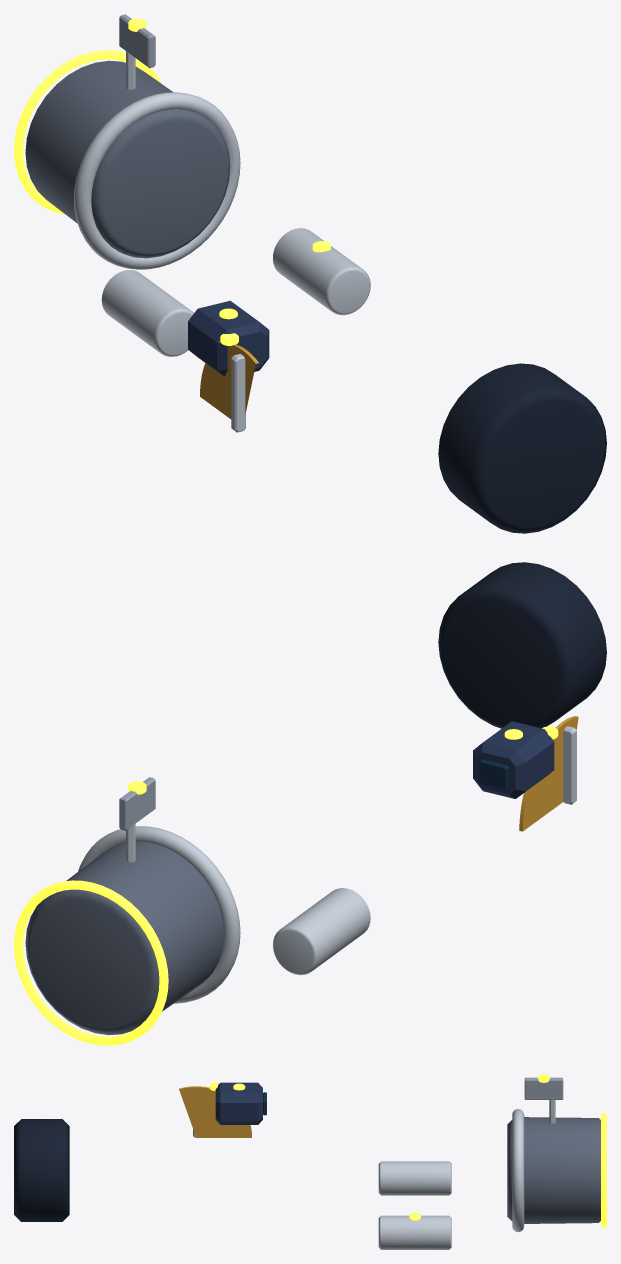
File: tower_nova_range_s6.glb
The picture shows the model from 3 angles, top to bottom: view 1: azimuth 30°, elevation 25°; view 2: azimuth 150°, elevation 25°; view 3: azimuth 270°, elevation 25°; orthographic projection. The views are drawn at different scales.
Visible parts, largest first — view 1: nova_tube_extension, nova_counterweight, nova_tube_collar, nova_recup_ext_l, nova_recup_ext_r, nova_cradle_optic, nova_tube_ext_glow, nova_quadrant_plate, nova_wind_vane, nova_quadrant_pointer; view 2: nova_tube_extension, nova_counterweight, nova_recup_ext_r, nova_tube_collar, nova_tube_ext_glow, nova_cradle_optic, nova_quadrant_plate, nova_wind_vane, nova_quadrant_pointer, nova_cradle_optic_lens; view 3: nova_tube_extension, nova_counterweight, nova_recup_ext_r, nova_recup_ext_l, nova_quadrant_plate, nova_cradle_optic, nova_tube_collar, nova_wind_vane, nova_tube_ext_glow.
Part boxes in pixels (<box>): nova_tube_extension: <box>25,60,230,258</box>; nova_counterweight: <box>438,363,606,533</box>; nova_tube_collar: <box>74,92,240,269</box>; nova_recup_ext_l: <box>273,228,370,315</box>; nova_recup_ext_r: <box>101,270,193,356</box>; nova_cradle_optic: <box>188,300,269,376</box>; nova_tube_ext_glow: <box>14,50,161,214</box>; nova_quadrant_plate: <box>200,344,258,419</box>; nova_wind_vane: <box>119,14,155,67</box>; nova_quadrant_pointer: <box>231,354,245,432</box>; nova_tube_extension: <box>25,841,223,1035</box>; nova_counterweight: <box>438,562,606,728</box>; nova_recup_ext_r: <box>272,888,370,975</box>; nova_tube_collar: <box>78,826,240,1003</box>; nova_tube_ext_glow: <box>14,880,168,1045</box>; nova_cradle_optic: <box>473,721,554,798</box>; nova_quadrant_plate: <box>519,716,578,831</box>; nova_wind_vane: <box>119,777,155,830</box>; nova_quadrant_pointer: <box>563,726,576,804</box>; nova_cradle_optic_lens: <box>479,759,508,789</box>; nova_tube_extension: <box>507,1117,600,1223</box>; nova_counterweight: <box>14,1119,69,1221</box>; nova_recup_ext_r: <box>378,1161,451,1195</box>; nova_recup_ext_l: <box>378,1215,451,1249</box>; nova_quadrant_plate: <box>179,1086,251,1137</box>; nova_cradle_optic: <box>215,1082,262,1124</box>; nova_tube_collar: <box>512,1109,524,1232</box>; nova_wind_vane: <box>524,1077,563,1099</box>; nova_tube_ext_glow: <box>601,1113,606,1227</box>.
Bounding box in the file's own units: 0.9804 × 0.7726 × 2.76.
